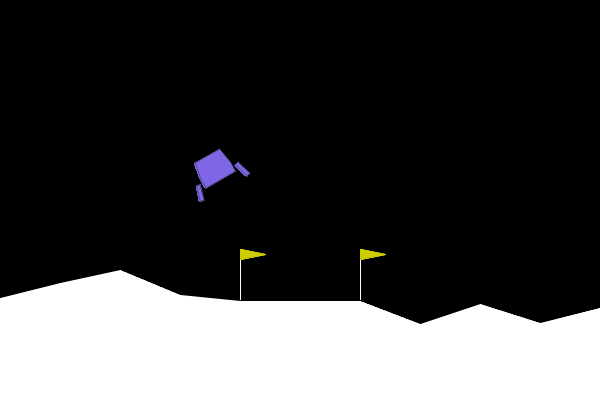lander: (180, 140, 252, 204)
